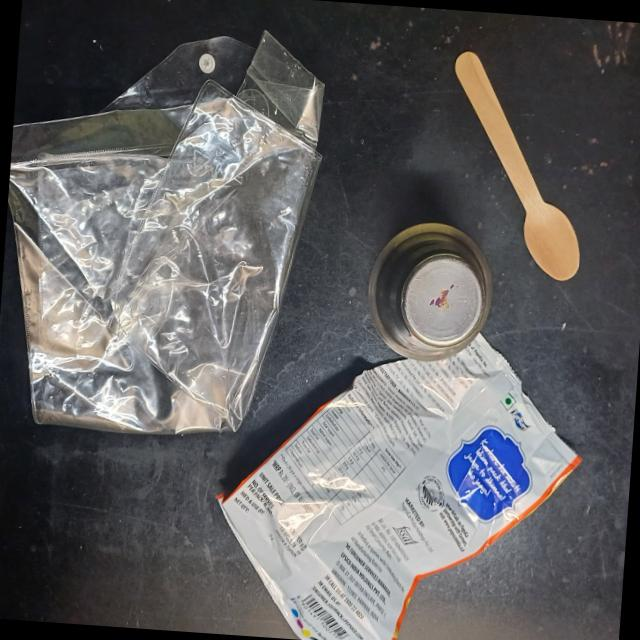Plastic-NonBio: (0, 7, 342, 454), (199, 311, 596, 640)
Steel-NonBio: (358, 210, 501, 368)
Wooden Spoon-Bio: (436, 49, 598, 282)
